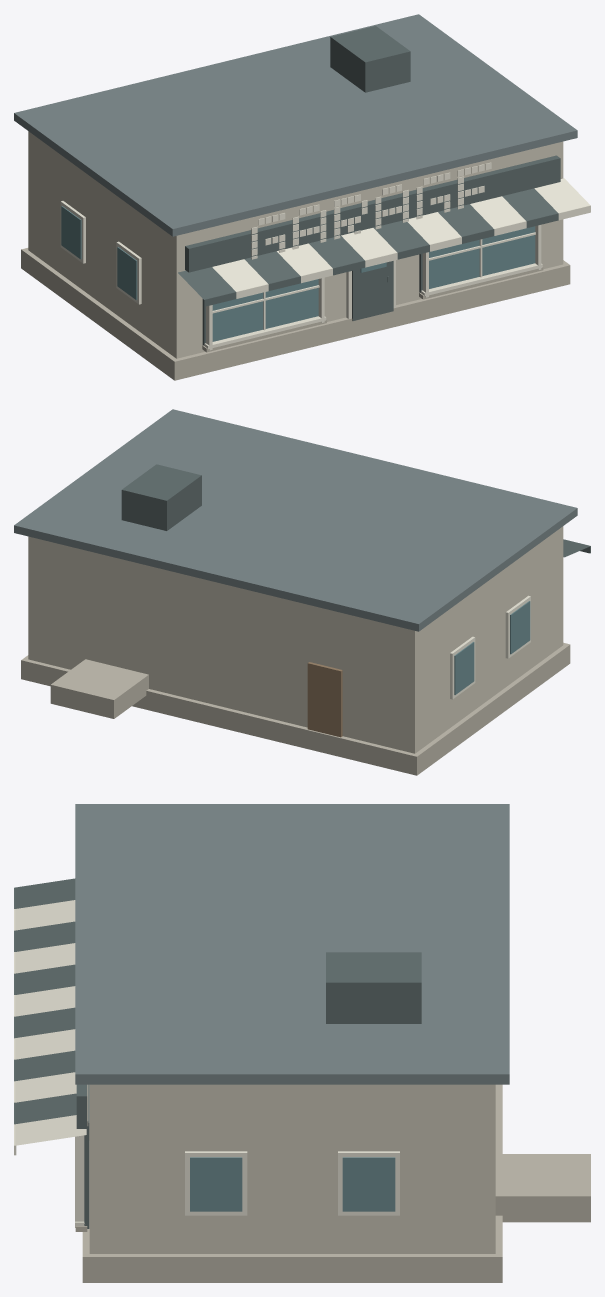
The picture shows the model from 3 angles, top to bottom: view 1: azimuth 30°, elevation 25°; view 2: azimuth 150°, elevation 25°; view 3: azimuth 270°, elevation 25°; orthographic projection. The views are drawn at different scales.
Bounding box in the file's own units: 13.4 × 5.85 × 12.09.
